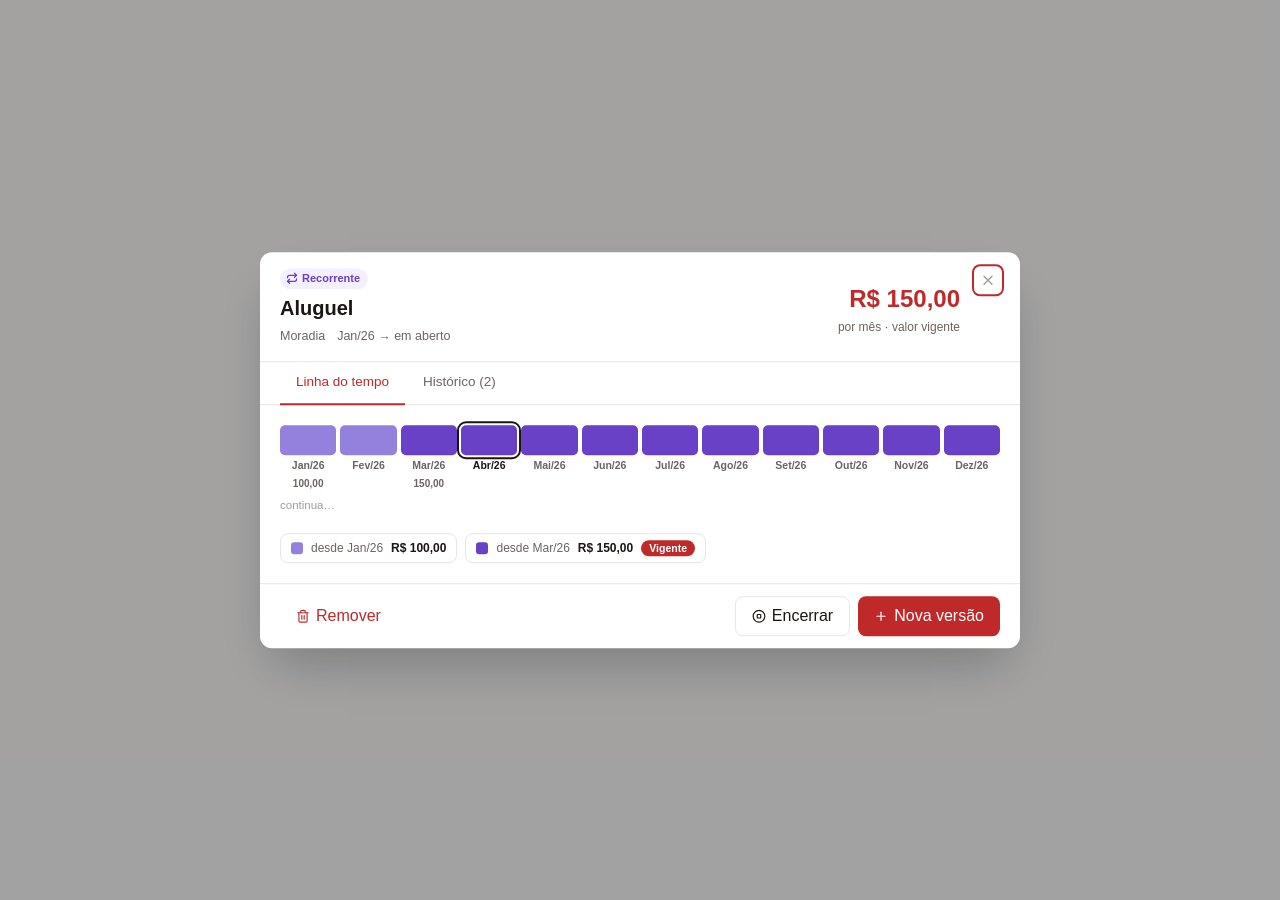
Test: SeriesFicha em visualização › abre a aba Histórico com a contagem de versões
What coordinates should you click on to do the following:
click the tab "Histórico (2)"
I would click on:
 (460, 384)
Its box is [407,362,512,405].
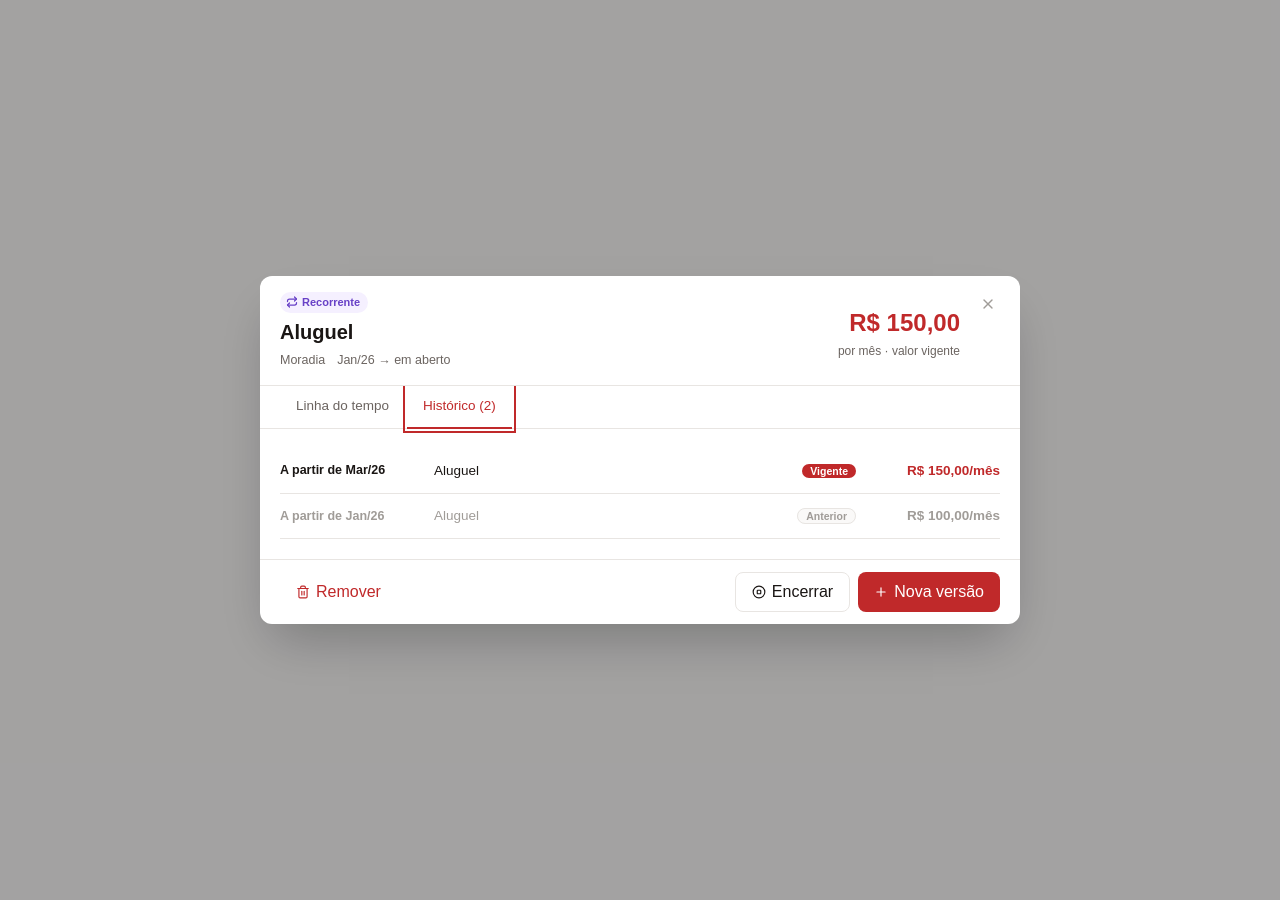
Check: the list named "Histórico de versões" is shown, box [280,448,1000,539]
